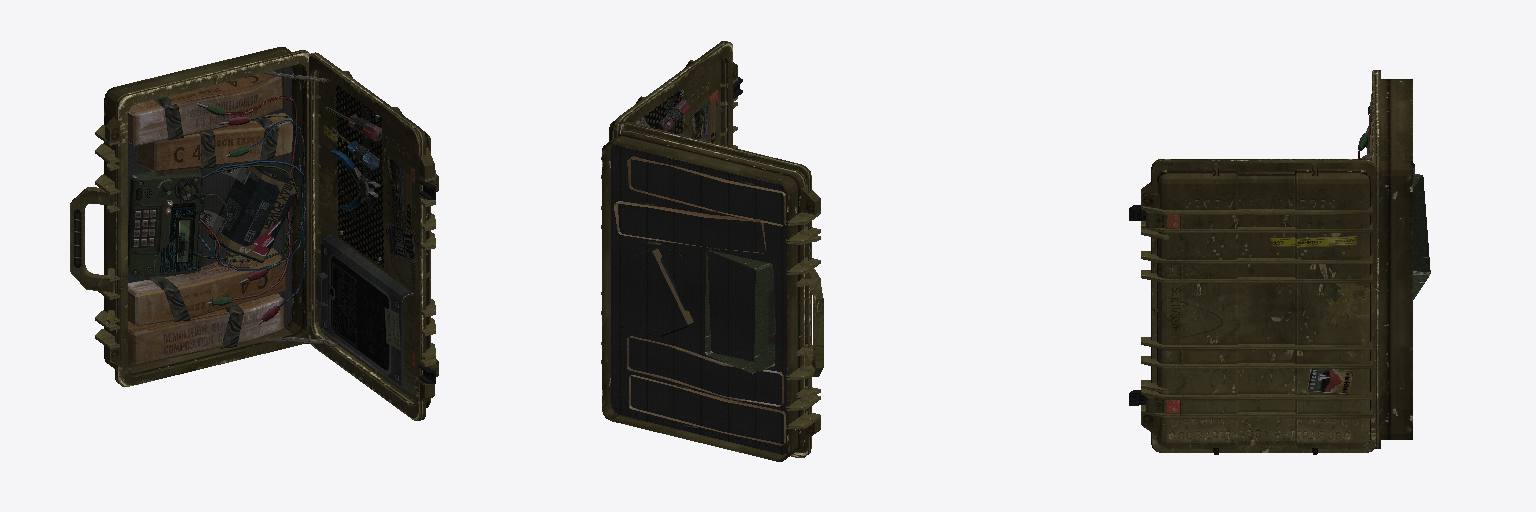
The picture shows the model from 3 angles: view 1: azimuth 30°, elevation 25°; view 2: azimuth 150°, elevation 25°; view 3: azimuth 270°, elevation 25°; orthographic projection.
Parts seen in each view (by area): view 1: mtl_bombcase_new, mtl_bombcase_alpha, mtl_bomb_wire; view 2: mtl_bombcase_new; view 3: mtl_bombcase_new.
Part boxes in pixels (left/top/right/bottom): mtl_bombcase_new: left=70, top=47, right=438, bottom=420; mtl_bombcase_alpha: left=336, top=85, right=383, bottom=267; mtl_bomb_wire: left=197, top=96, right=305, bottom=307; mtl_bombcase_new: left=601, top=41, right=823, bottom=461; mtl_bombcase_new: left=1129, top=70, right=1430, bottom=454.
Bounding box in the file's own units: 46.26 × 53.37 × 50.03.
Materials: 3 (3 with a texture image).